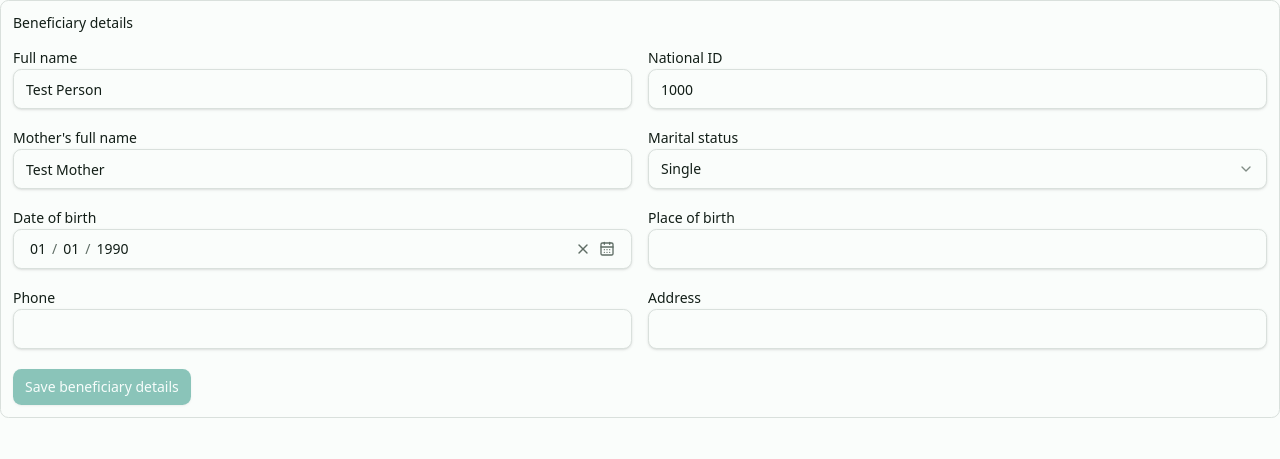
Scenario: ClientDetailsPanel field errors › reads an error nested under the API's own wrapper key
This screenshot has width=1280, height=459.
Replace the text in the field labelled "Date of birth" with "2099-01-01" at (38, 249), box [26,239,50,259]
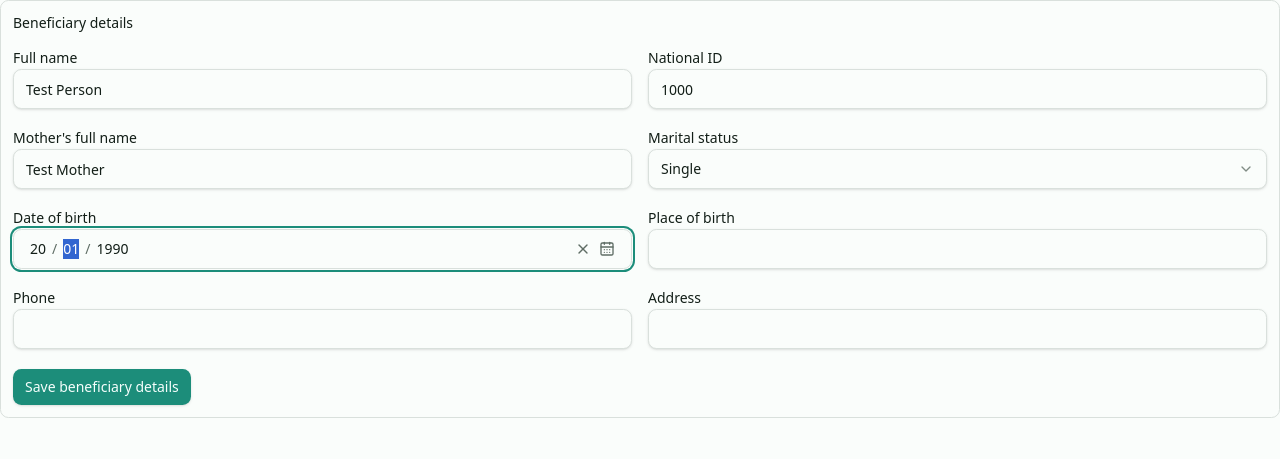
Click the button "Save beneficiary details" at (102, 387), box [13,369,191,405]
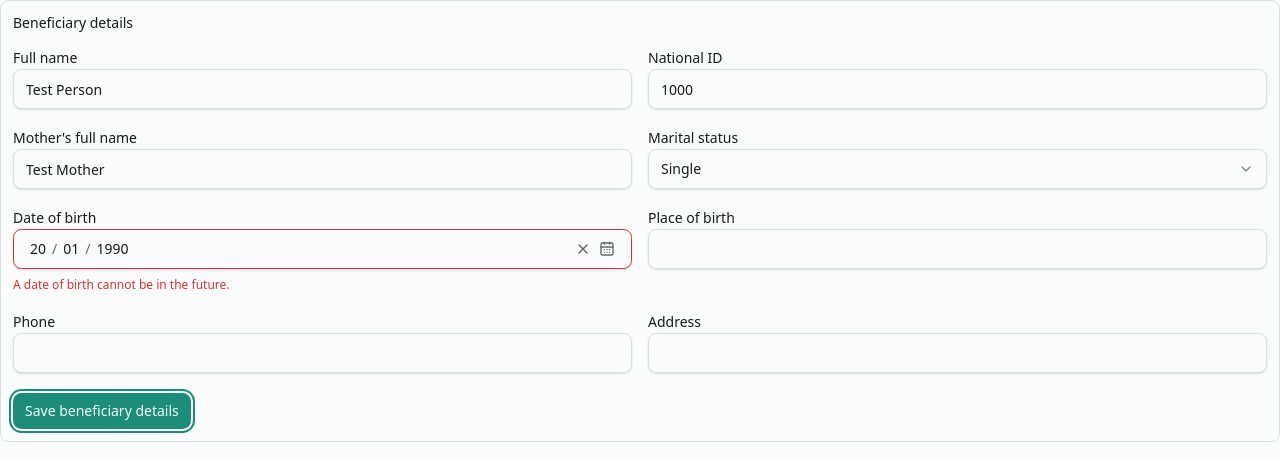
Now the message shows "cannot be in the future", box [13,276,230,293]
